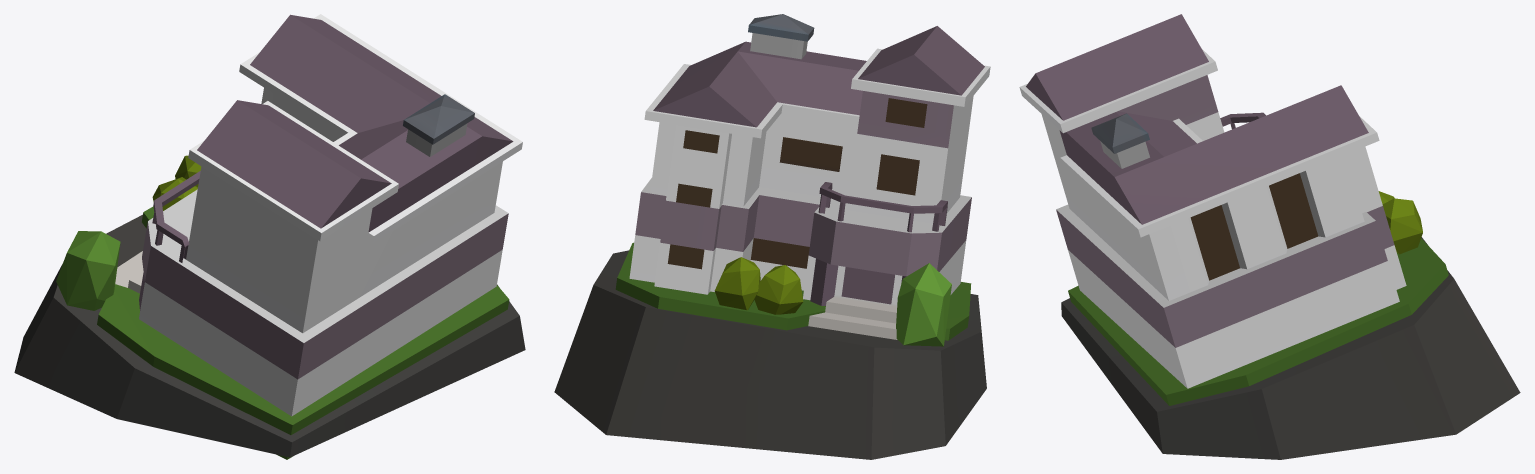
The model's file is city_lv06_B.fbx.
3 renders of one model, left to right at view 1: azimuth 30°, elevation 25°; view 2: azimuth 150°, elevation 25°; view 3: azimuth 270°, elevation 25°, orthographic. The views are drawn at different scales.
Visible parts, largest first — view 1: city_lv06_B; view 2: city_lv06_B; view 3: city_lv06_B.
Boxes of the visible parts, x1,y1,x2,y2 form: city_lv06_B: [14, 14, 525, 459]; city_lv06_B: [554, 14, 990, 459]; city_lv06_B: [1019, 14, 1520, 459].
Size of the model in its own units: 3880 by 2839 by 4079.
